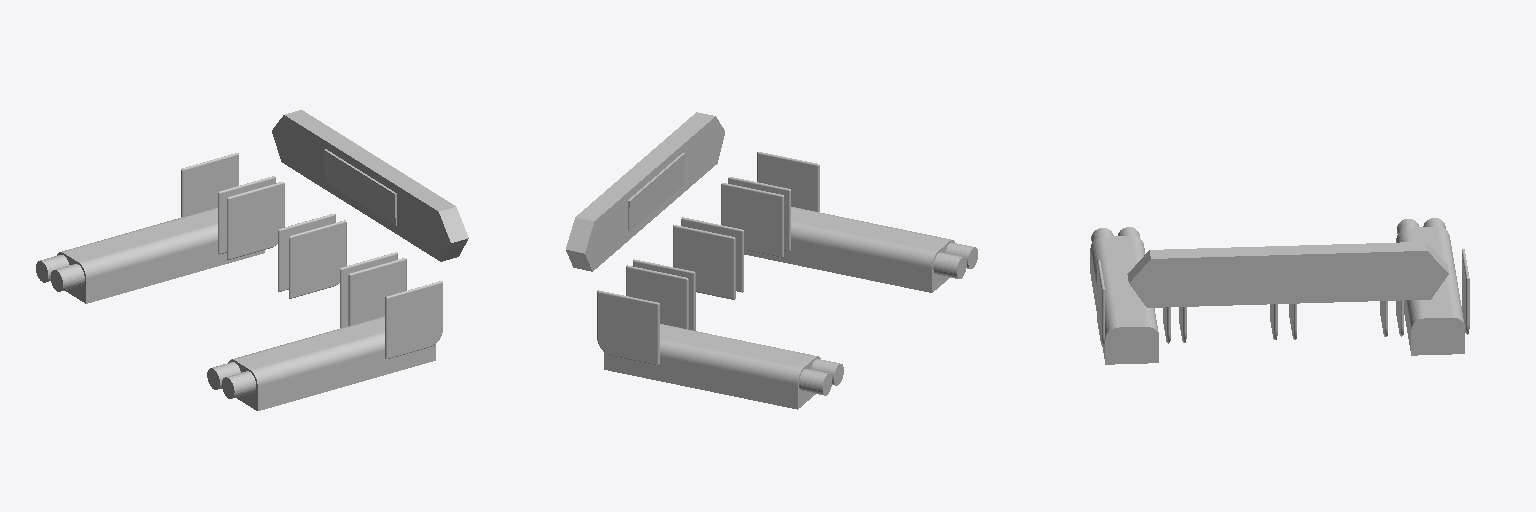
Rendered from detalles_traseros.obj.
3 renders of one model, left to right at view 1: azimuth 30°, elevation 25°; view 2: azimuth 150°, elevation 25°; view 3: azimuth 270°, elevation 25°, orthographic.
Parts seen in each view (by area): view 1: Rear_Splitters_Plane.001, Exhaust_Cut_Out_Cube.007, Rear_Number_Plate_slot_Cube.006, Exhaust_Cylinder.006, Rear_Number_Plate_Cube.004; view 2: Rear_Splitters_Plane.001, Exhaust_Cut_Out_Cube.007, Rear_Number_Plate_slot_Cube.006, Exhaust_Cylinder.006, Rear_Number_Plate_Cube.004; view 3: Rear_Number_Plate_slot_Cube.006, Exhaust_Cut_Out_Cube.007, Rear_Splitters_Plane.001, Exhaust_Cylinder.006.
Part boxes in pixels (x1,y1,x2,y2): Rear_Splitters_Plane.001: (181,153,442,358); Exhaust_Cut_Out_Cube.007: (57,207,435,410); Rear_Number_Plate_slot_Cube.006: (272,110,468,261); Exhaust_Cylinder.006: (36,255,255,398); Rear_Number_Plate_Cube.004: (324,149,396,225); Rear_Splitters_Plane.001: (597,152,819,365); Exhaust_Cut_Out_Cube.007: (604,207,954,409); Rear_Number_Plate_slot_Cube.006: (566,112,724,271); Exhaust_Cylinder.006: (799,242,977,395); Rear_Number_Plate_Cube.004: (628,153,684,232); Rear_Number_Plate_slot_Cube.006: (1127,242,1448,307); Exhaust_Cut_Out_Cube.007: (1090,227,1464,364); Rear_Splitters_Plane.001: (1097,249,1469,344); Exhaust_Cylinder.006: (1091,218,1445,241).
Size of the model in its own units: 2.28 by 1 by 2.72.